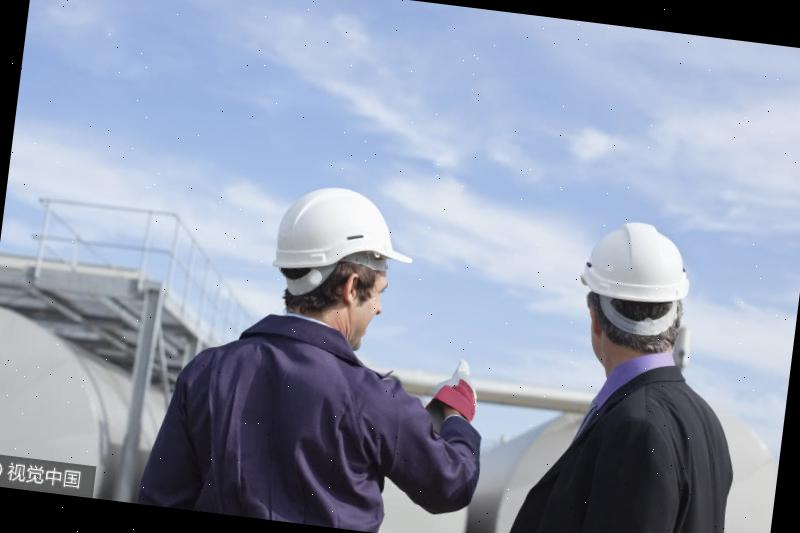helmet: (270, 177, 421, 288), (573, 211, 704, 326)
no_wear: (508, 371, 734, 533)
wear: (161, 308, 406, 530)
